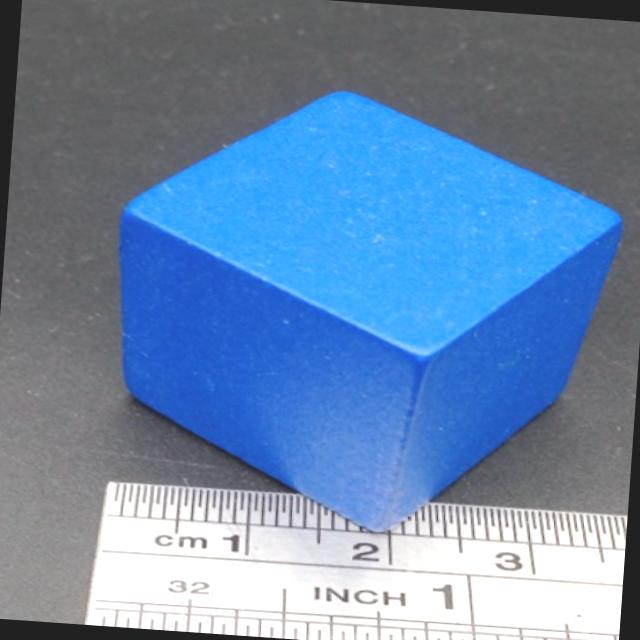bluecube: (116, 91, 625, 534)
